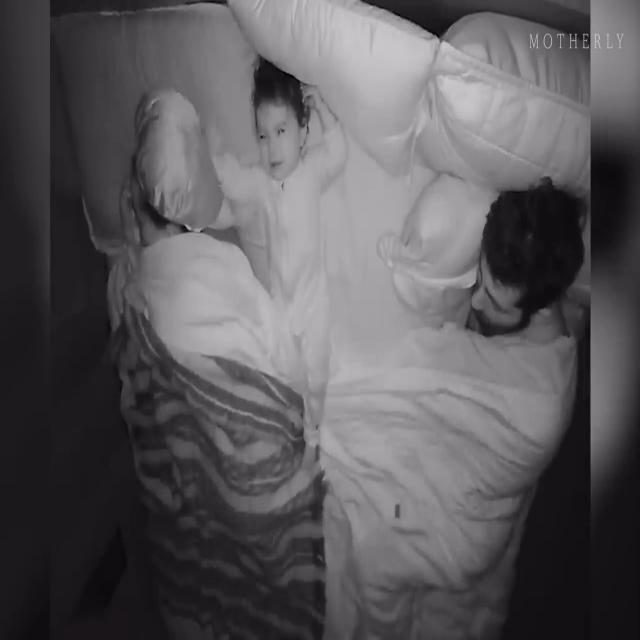baby: (207, 53, 352, 428)
